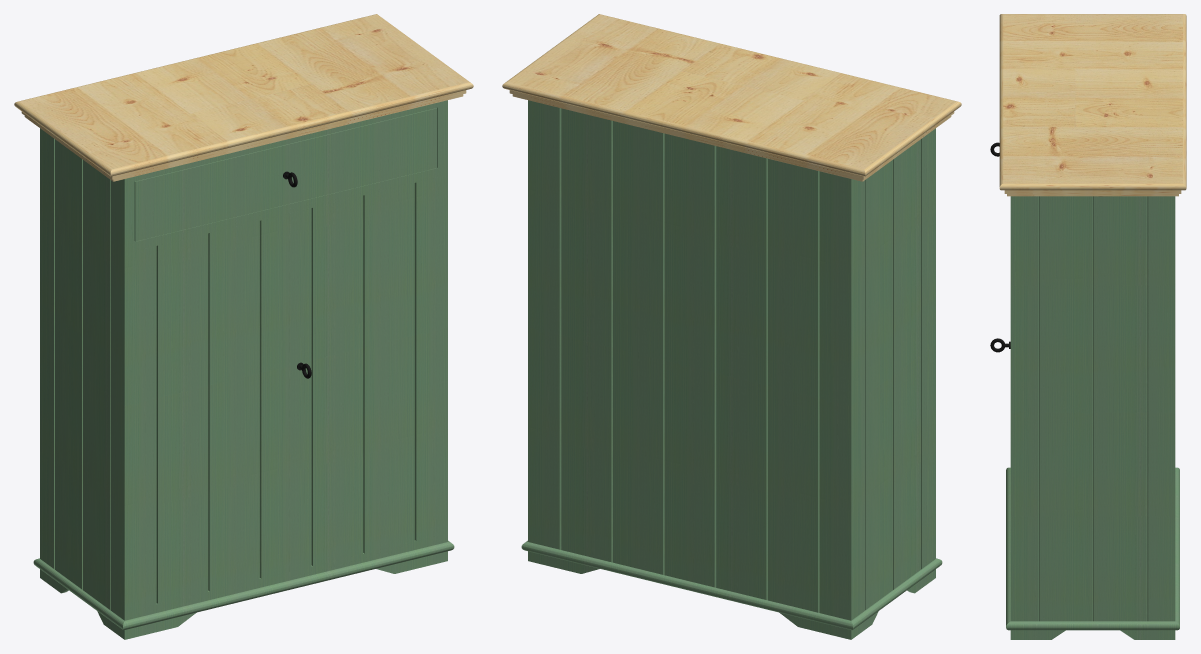
Rendered from HURDAL_Linen_Closet.obj.
3 renders of one model, left to right at view 1: azimuth 30°, elevation 25°; view 2: azimuth 150°, elevation 25°; view 3: azimuth 270°, elevation 25°, orthographic. The views are drawn at different scales.
Visible parts, largest first — view 1: Furniture; view 2: Furniture; view 3: Furniture.
Part boxes in pixels (left/top/right/bottom): Furniture: left=14, top=14, right=473, bottom=639; Furniture: left=502, top=14, right=961, bottom=639; Furniture: left=999, top=14, right=1186, bottom=639.
Bounding box in the file's own units: 1090 × 1370 × 524.
